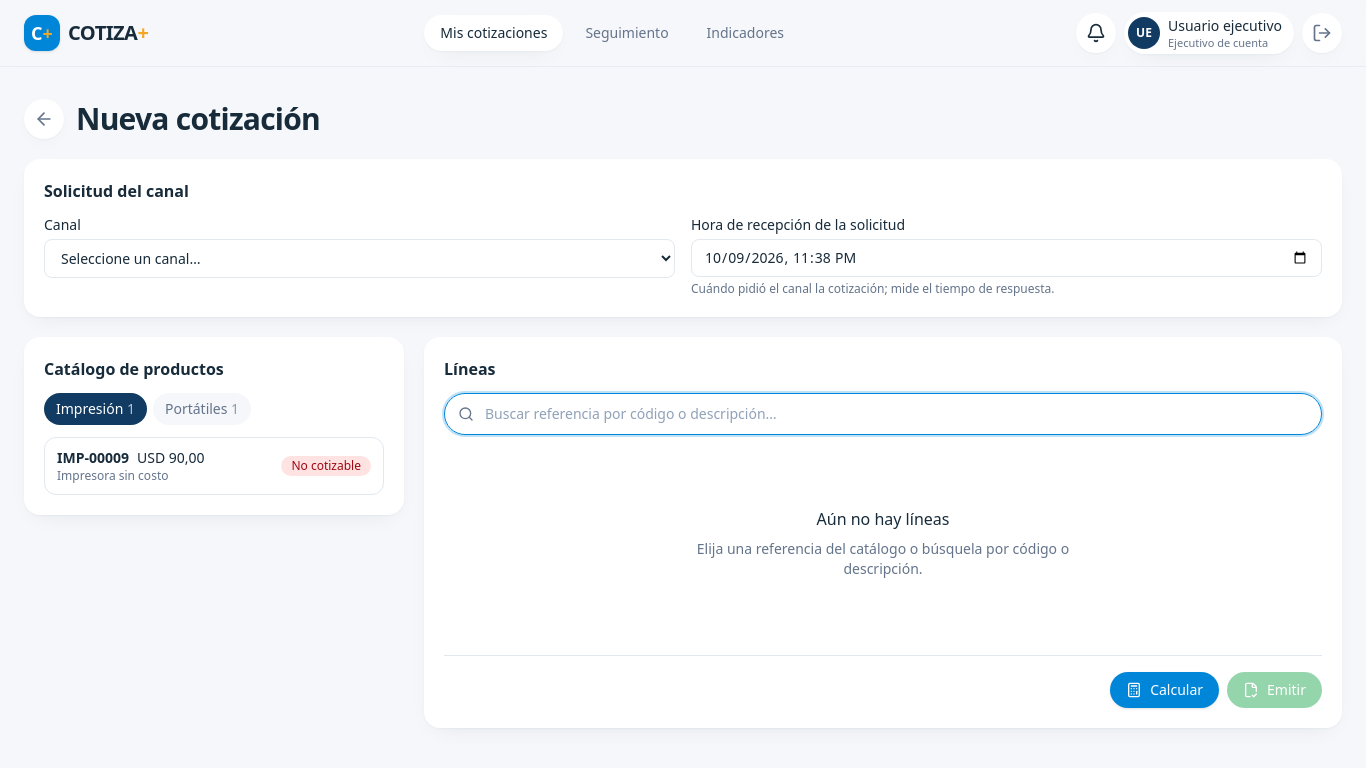
it: nueva cotización › busca una referencia, la agrega, crea la cotización y la calcula
Check: the heading "Nueva cotización" is shown, box [76, 101, 320, 137]
Select "Soluciones Andinas TI S.A.S. (demo) — Plata" in the dropdown labelled "Canal" at (360, 258), box [44, 239, 675, 278]
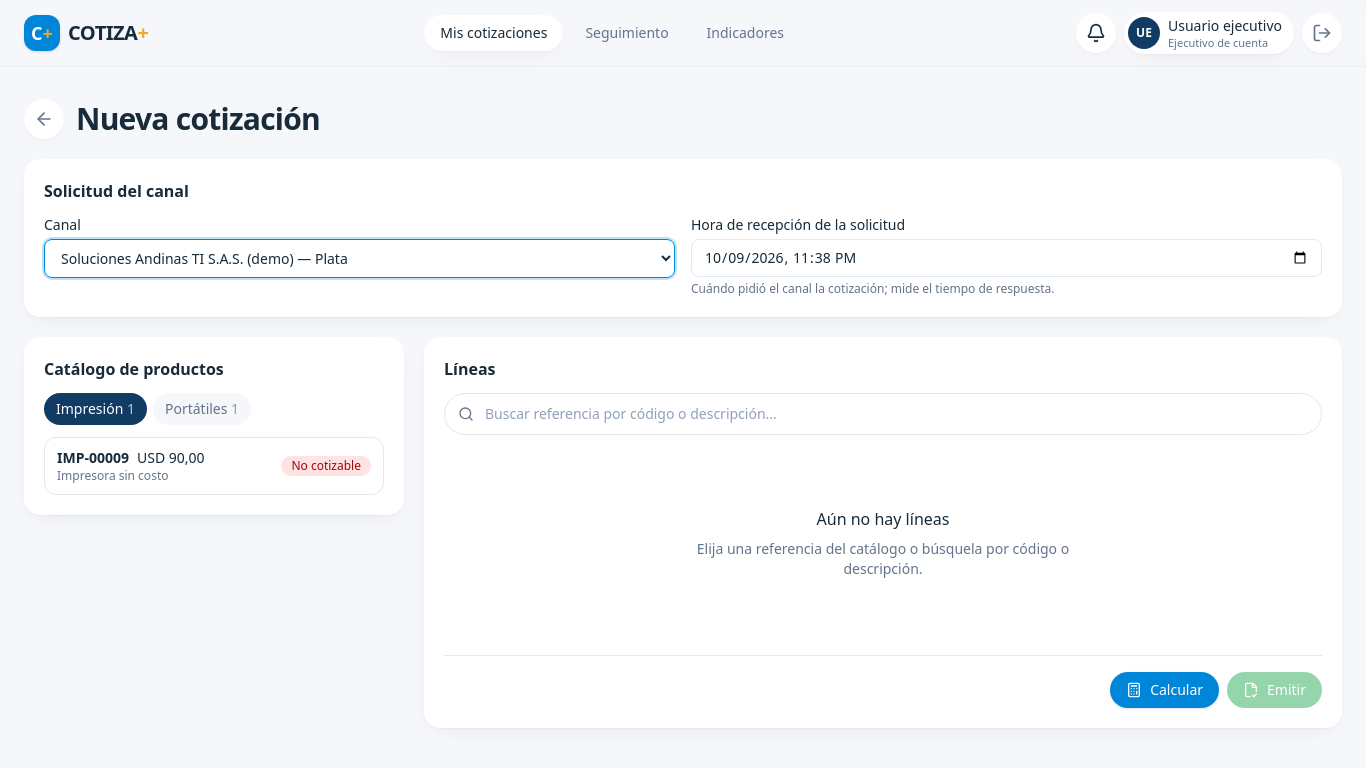
Type "demo" into the dropdown labelled "Buscar referencia por código o descripción…" at (883, 414), box [444, 393, 1322, 435]
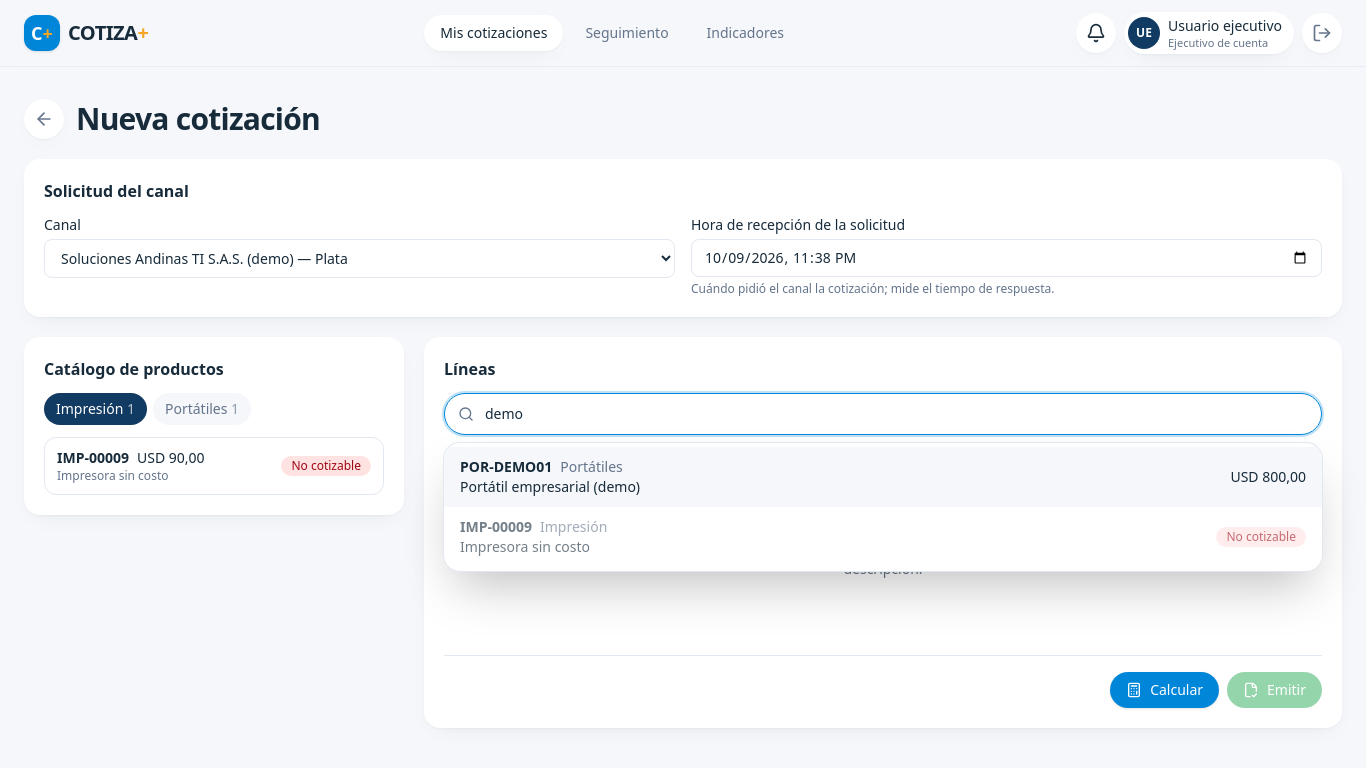
Check: the text "No cotizable" below "USD 800,00" is shown, box [1226, 528, 1296, 545]
Click the option "POR-DEMO01Portátiles Portátil empresarial (demo) USD 800,00" at (506, 466), box [444, 447, 1322, 507]
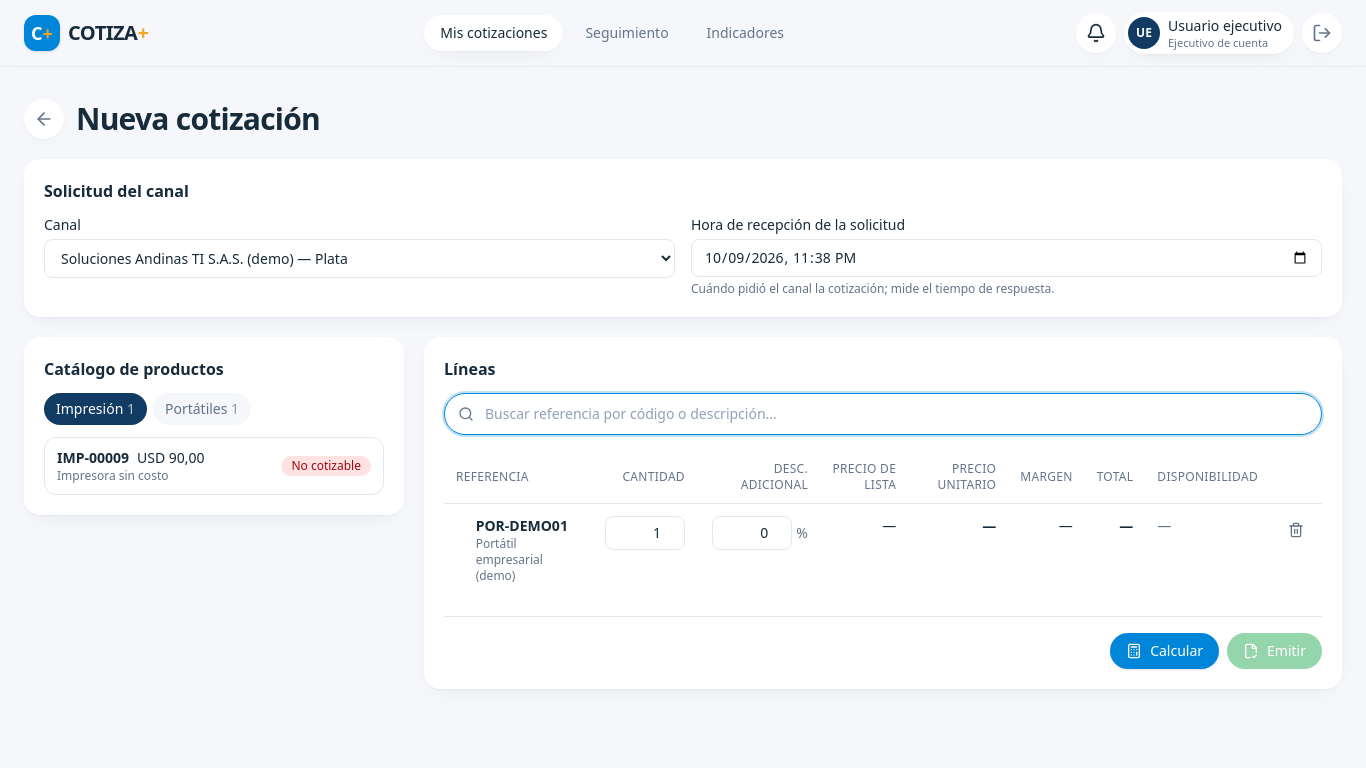
Replace the text in the number field named "Cantidad de POR-DEMO01" with "20" at (645, 533), box [605, 516, 685, 550]
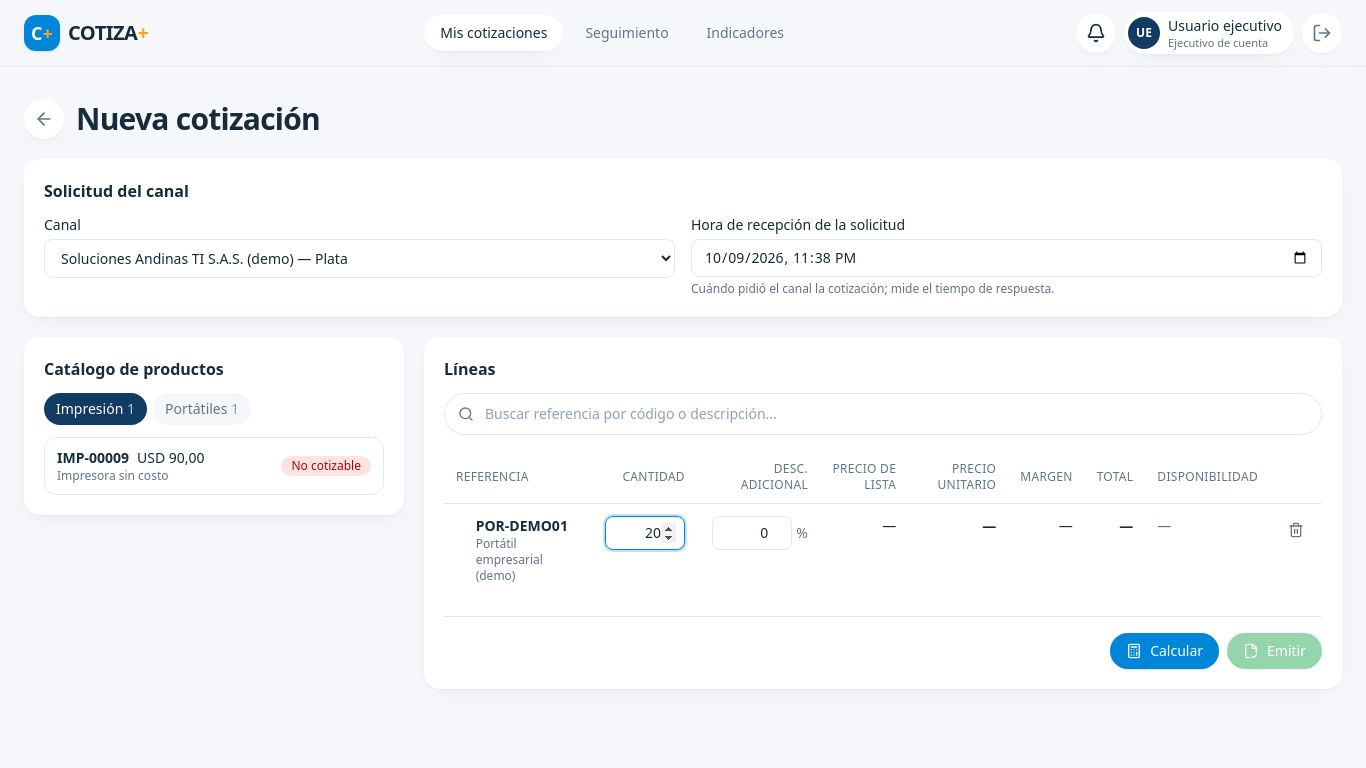
Click the button "Calcular" at (1165, 651), box [1110, 633, 1219, 669]
(page scrolled)
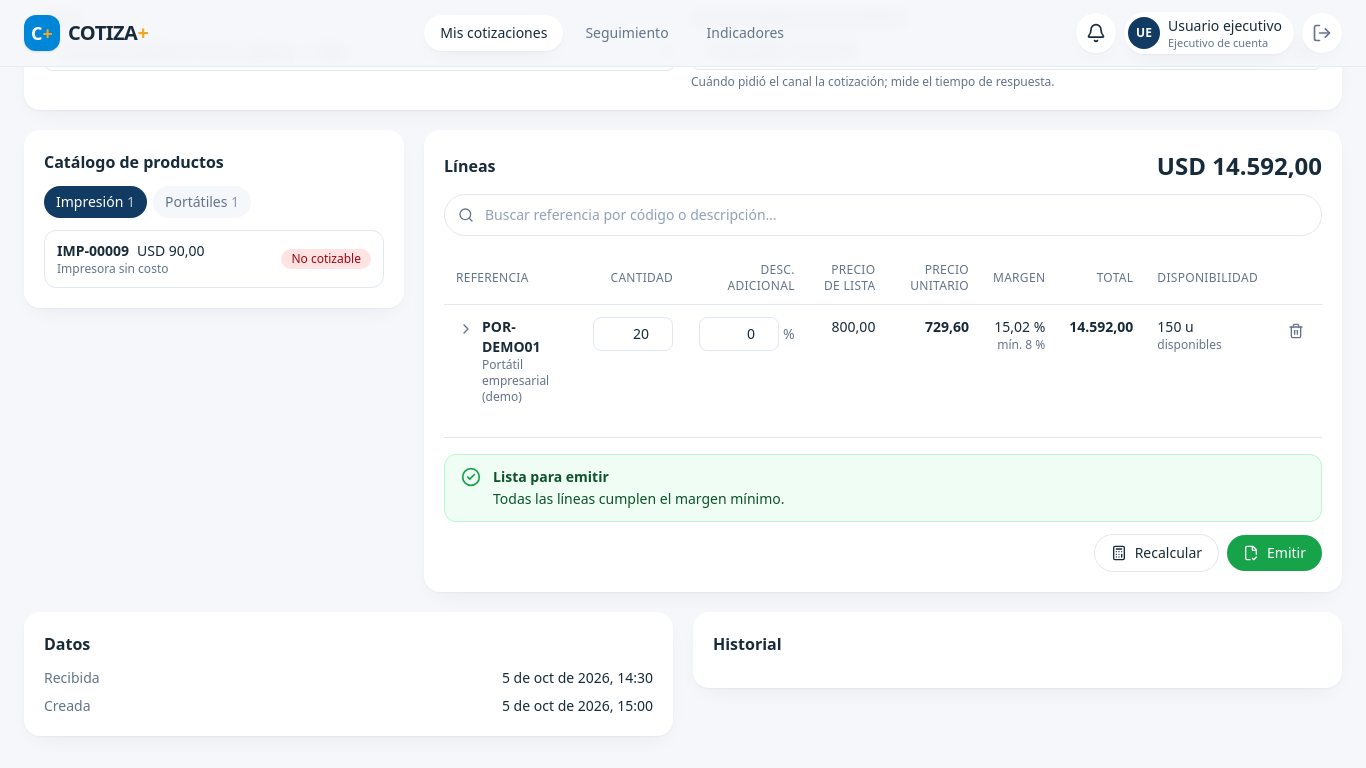
Check: the text "Lista para emitir" is shown, box [493, 467, 609, 486]
Check: the button "Emitir" is enabled, box [1227, 535, 1322, 571]
